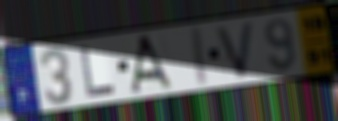3: (38, 45, 74, 107)
9: (263, 17, 298, 73)
A: (129, 32, 176, 95)
I: (191, 23, 211, 89)
L: (78, 45, 118, 100)
V: (213, 19, 257, 81)
